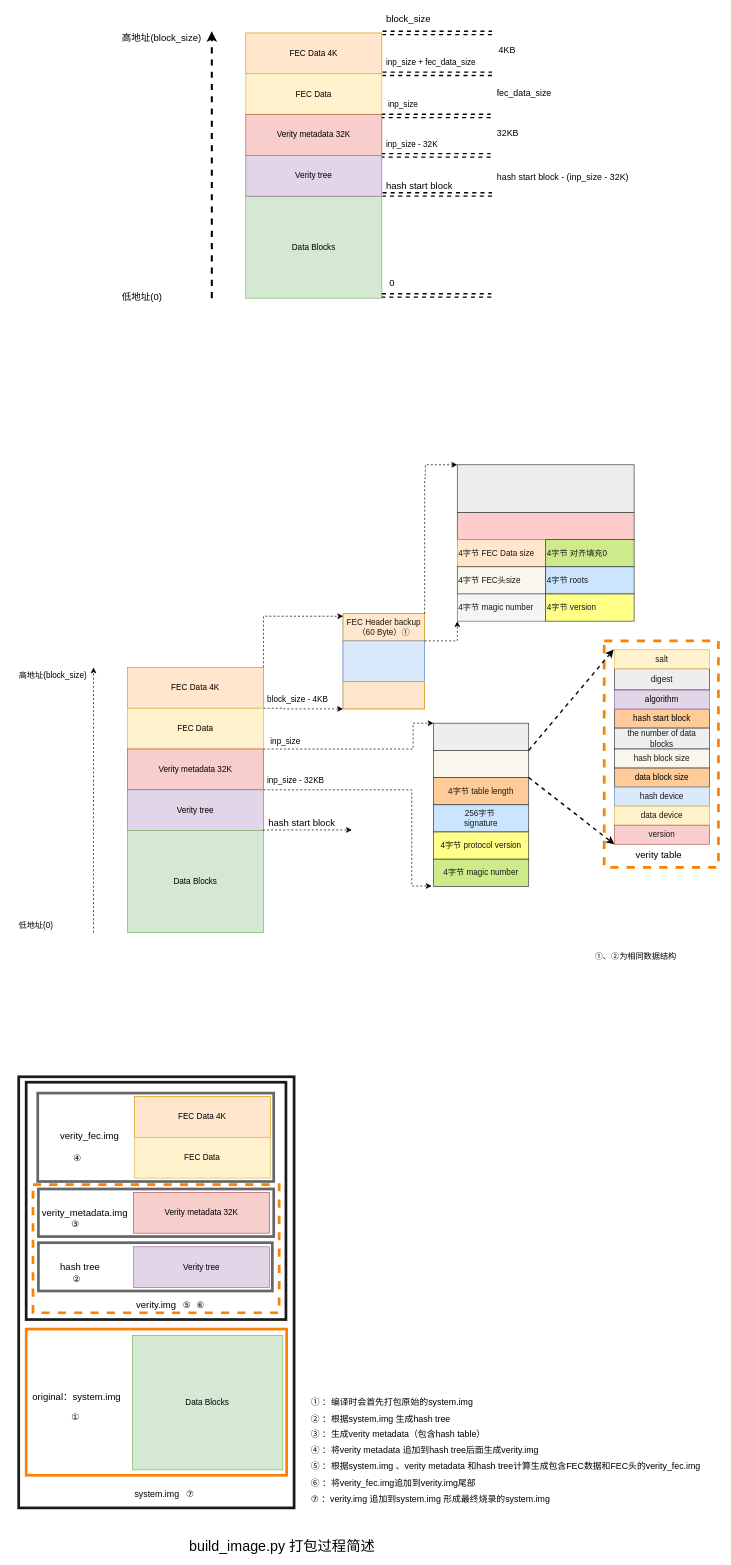
Image size: 731x1565. Some labels were removed from this diagram. Each missing label, with the box of its shape:
0填充至32KB: (433, 722, 529, 750)
32字节 哈希值: (457, 464, 634, 512)
4096 - 60*2 个 填充 0: (342, 640, 425, 682)
8字节 inp size: (457, 512, 634, 540)
FEC Header （60 Byte）②: (342, 681, 425, 709)
table length字节 verity table: (433, 750, 529, 778)
